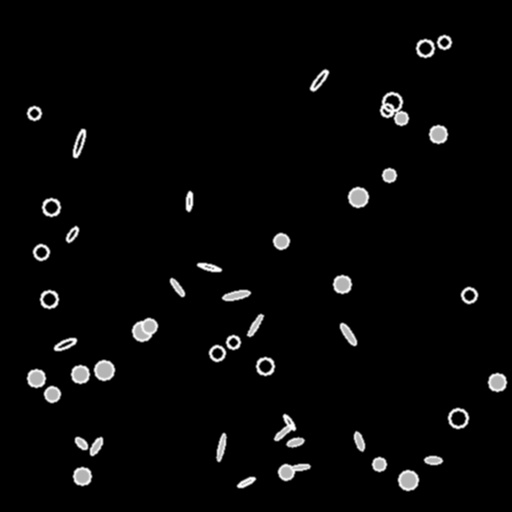pseudomonas: (71, 128, 87, 158), (309, 68, 329, 92), (339, 322, 357, 346), (247, 313, 263, 337), (53, 336, 77, 352), (273, 423, 293, 441), (169, 277, 185, 297), (223, 289, 249, 301), (64, 225, 80, 243), (216, 434, 226, 460), (89, 437, 103, 455), (353, 431, 365, 451), (236, 476, 256, 488), (197, 262, 221, 272), (282, 414, 296, 430), (74, 436, 88, 450), (286, 437, 304, 447), (291, 463, 309, 471), (424, 457, 442, 463), (186, 192, 192, 210)
synechocystis: (133, 322, 151, 340), (399, 471, 417, 489), (449, 409, 467, 427), (95, 361, 113, 379), (383, 93, 401, 111), (349, 188, 367, 206), (43, 199, 59, 215), (28, 370, 44, 386), (417, 40, 433, 56), (72, 366, 88, 382), (430, 126, 446, 142), (74, 468, 90, 484), (489, 374, 505, 390), (41, 291, 57, 307), (257, 358, 273, 374), (334, 276, 350, 292), (45, 387, 59, 401), (34, 245, 48, 259), (462, 288, 476, 302), (210, 346, 224, 360), (279, 465, 293, 479), (142, 319, 156, 333), (274, 234, 288, 248), (381, 104, 393, 116), (28, 107, 40, 119), (438, 36, 450, 48), (395, 112, 407, 124), (227, 336, 239, 348), (383, 169, 395, 181), (373, 458, 385, 470)
